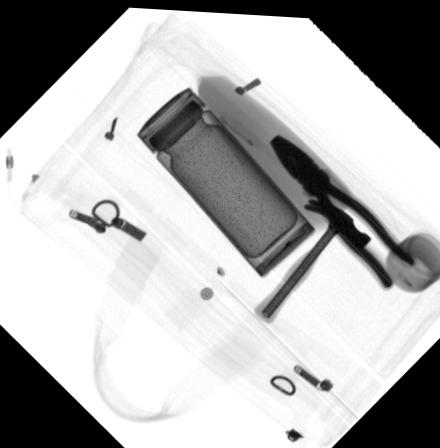Hammer: (252, 195, 371, 321)
Pliers: (267, 130, 417, 286)
